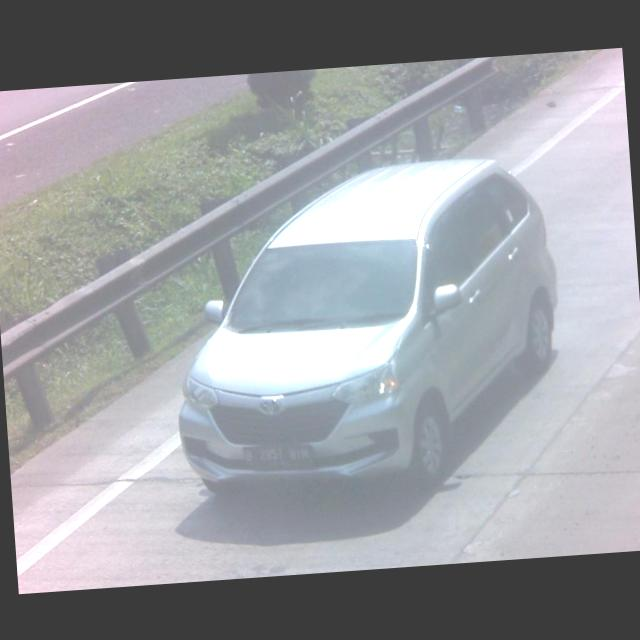plate: (234, 436, 315, 475)
